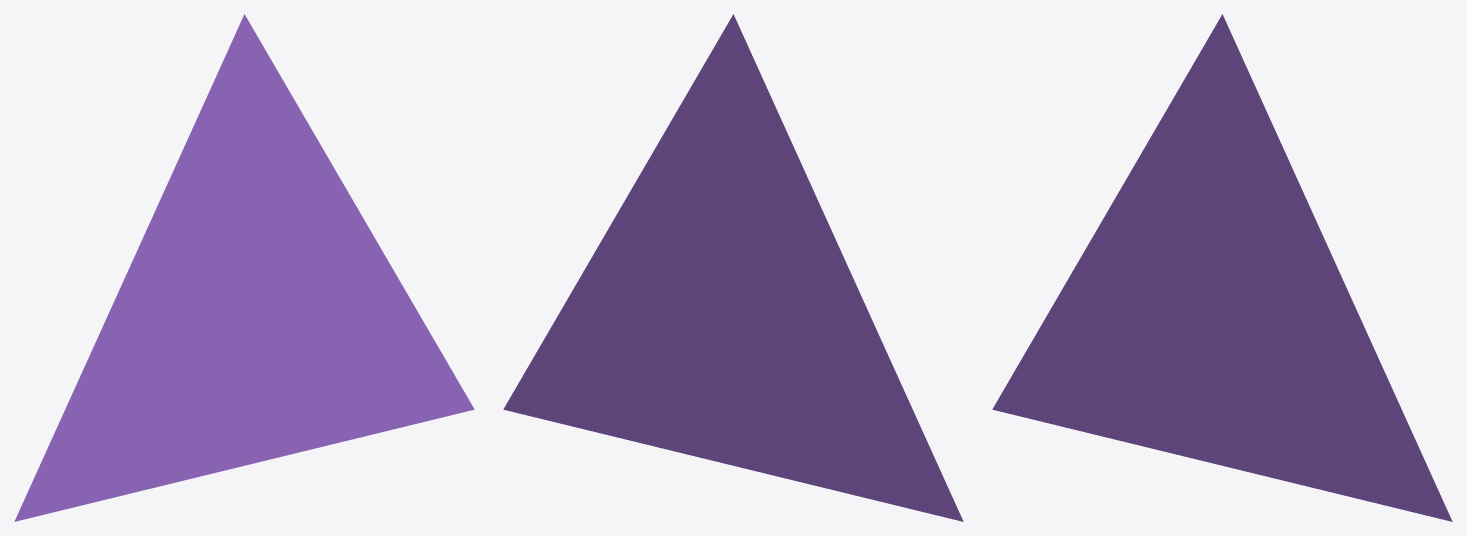
The model's file is animated-triangle.gltf.
The picture shows the model from 3 angles, left to right: view 1: azimuth 30°, elevation 25°; view 2: azimuth 150°, elevation 25°; view 3: azimuth 330°, elevation 25°; orthographic projection.
Parts seen in each view (by area): view 1: Animated triangle; view 2: Animated triangle; view 3: Animated triangle.
Part boxes in pixels (left/top/right/bottom): Animated triangle: left=14, top=14, right=474, bottom=521; Animated triangle: left=503, top=14, right=963, bottom=521; Animated triangle: left=992, top=14, right=1452, bottom=521.
Bounding box in the file's own units: 1.6 × 1.5 × 0.
